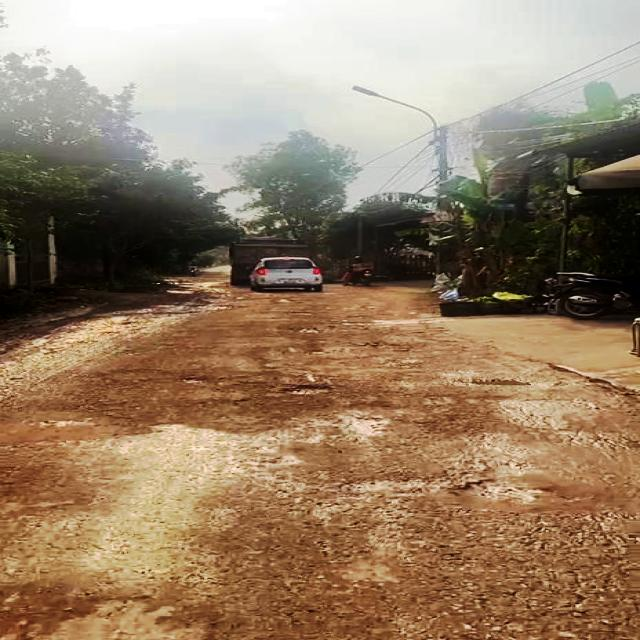pothole: (452, 473, 608, 519), (451, 374, 538, 389), (276, 381, 339, 396), (292, 324, 322, 334)
